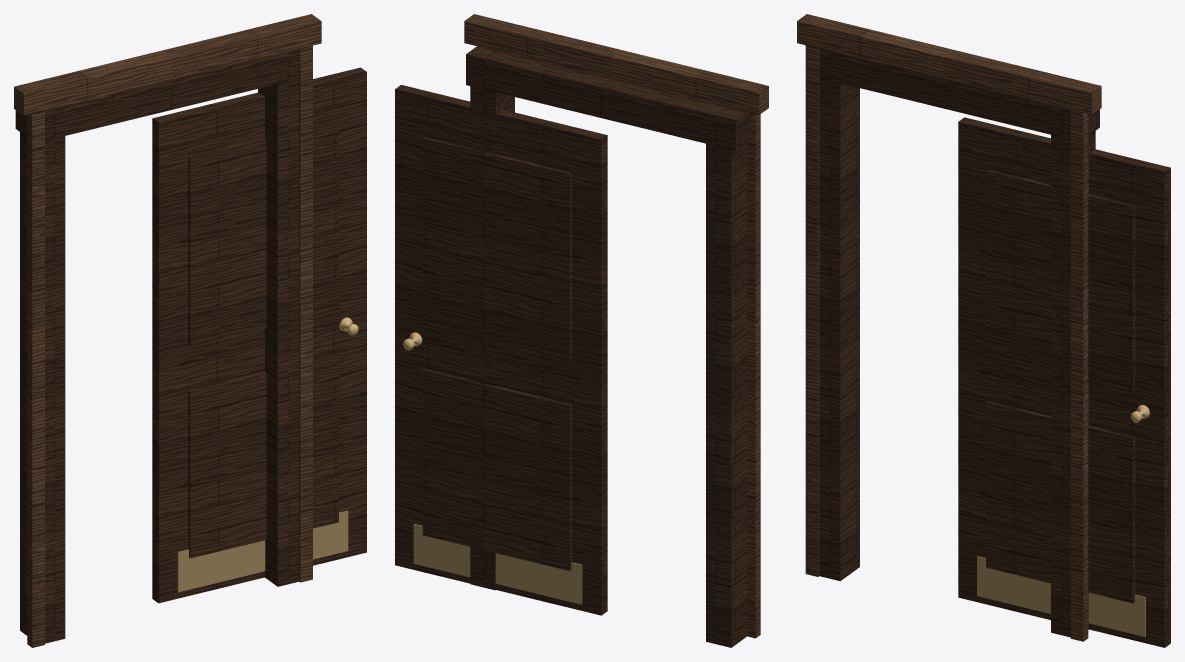
Rendered from porta.glb.
3 renders of one model, left to right at view 1: azimuth 30°, elevation 25°; view 2: azimuth 150°, elevation 25°; view 3: azimuth 330°, elevation 25°, orthographic.
Visible parts, largest first — view 1: porta_folha, porta_moldura; view 2: porta_folha, porta_moldura; view 3: porta_folha, porta_moldura.
Part boxes in pixels (left/top/right/bottom): porta_folha: left=152, top=67, right=366, bottom=603; porta_moldura: left=14, top=14, right=321, bottom=647; porta_folha: left=395, top=85, right=607, bottom=615; porta_moldura: left=464, top=14, right=768, bottom=647; porta_folha: left=958, top=117, right=1170, bottom=647; porta_moldura: left=797, top=14, right=1101, bottom=641.
Size of the model in its own units: 1.68 by 2.5 by 0.241.
Materials: 4 (2 with a texture image).
